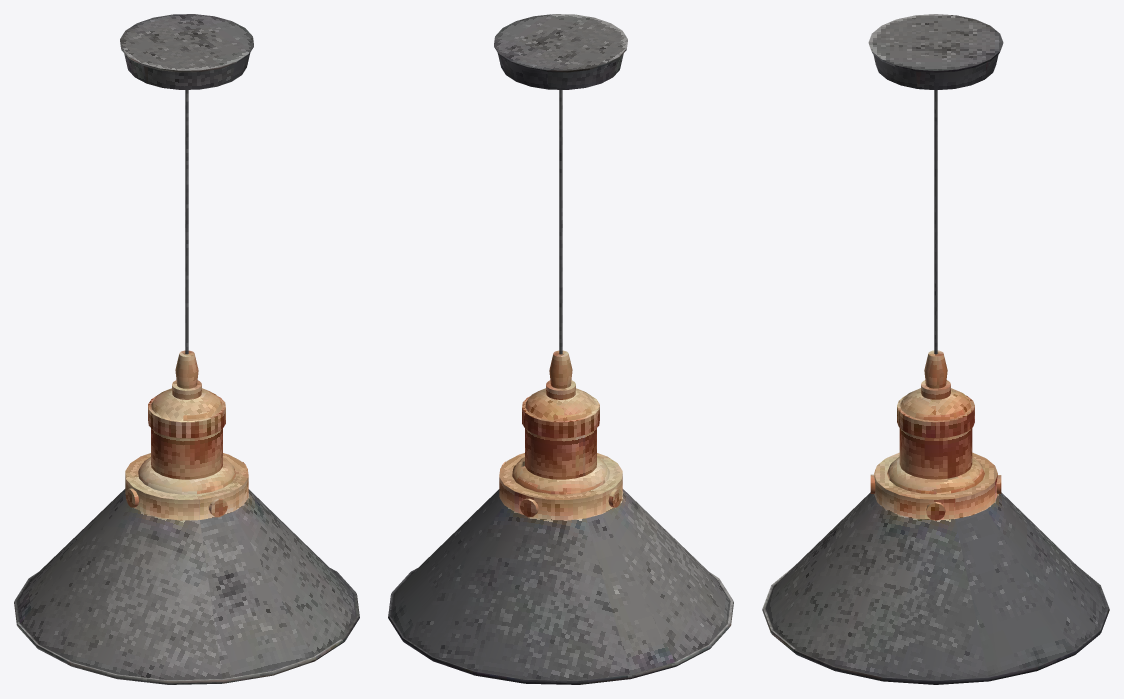
File: gg_lamp_pendant.glb
3 views of the same model, side by side, from view 1: azimuth 30°, elevation 25°; view 2: azimuth 150°, elevation 25°; view 3: azimuth 270°, elevation 25° (orthographic).
Parts seen in each view (by area): view 1: mesh; view 2: mesh; view 3: mesh.
Part boxes in pixels (x1,y1,x2,y2): mesh: (14,14,359,684); mesh: (388,14,733,684); mesh: (762,14,1109,684).
Size of the model in its own units: 0.2657 by 0.5 by 0.2657.
1 material, 1 textured.
